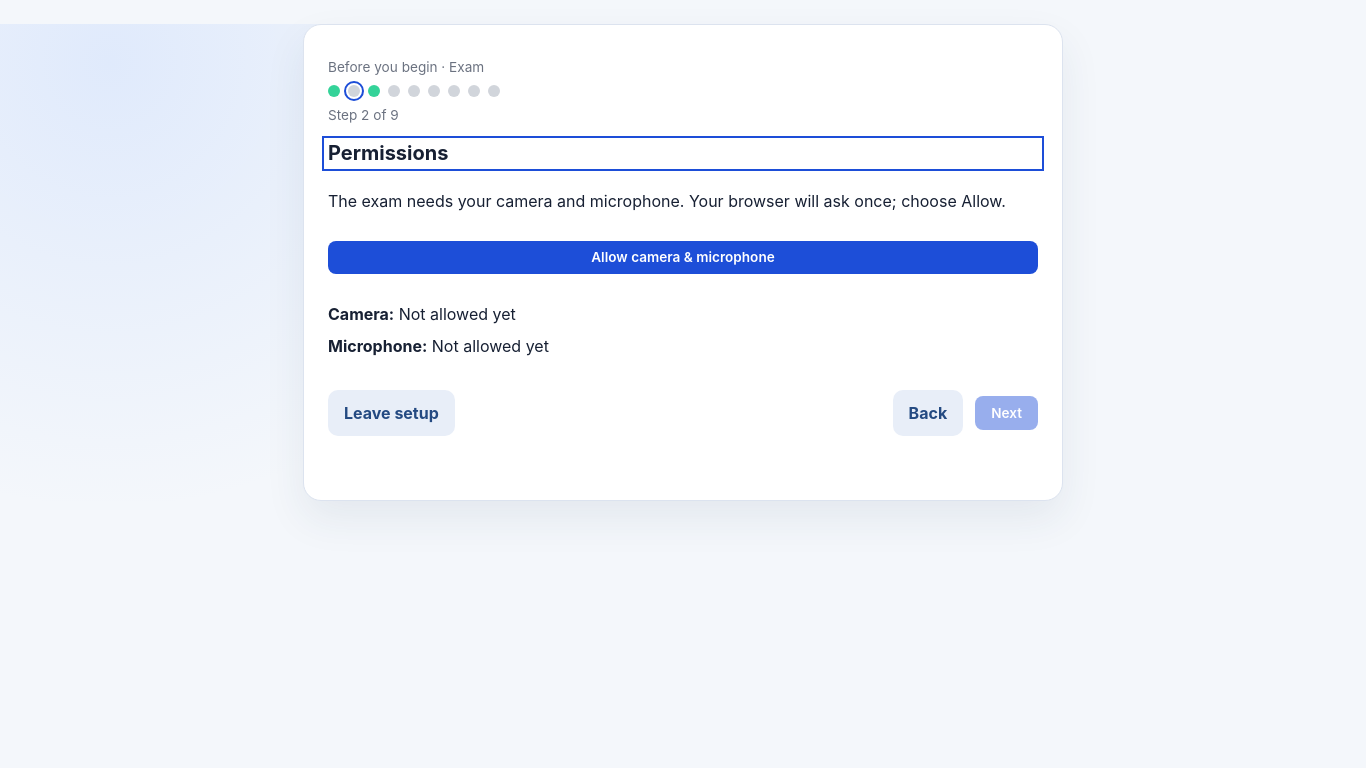
Scenario: gates the permissions step on both permissions and shows fix steps when blocked
The width and height of the screenshot is (1366, 768).
Check: the button "Next" is disabled, box [975,396,1038,430]
Step 1. Click the button "Allow camera & microphone" → [683, 257], box [328,241,1038,274]
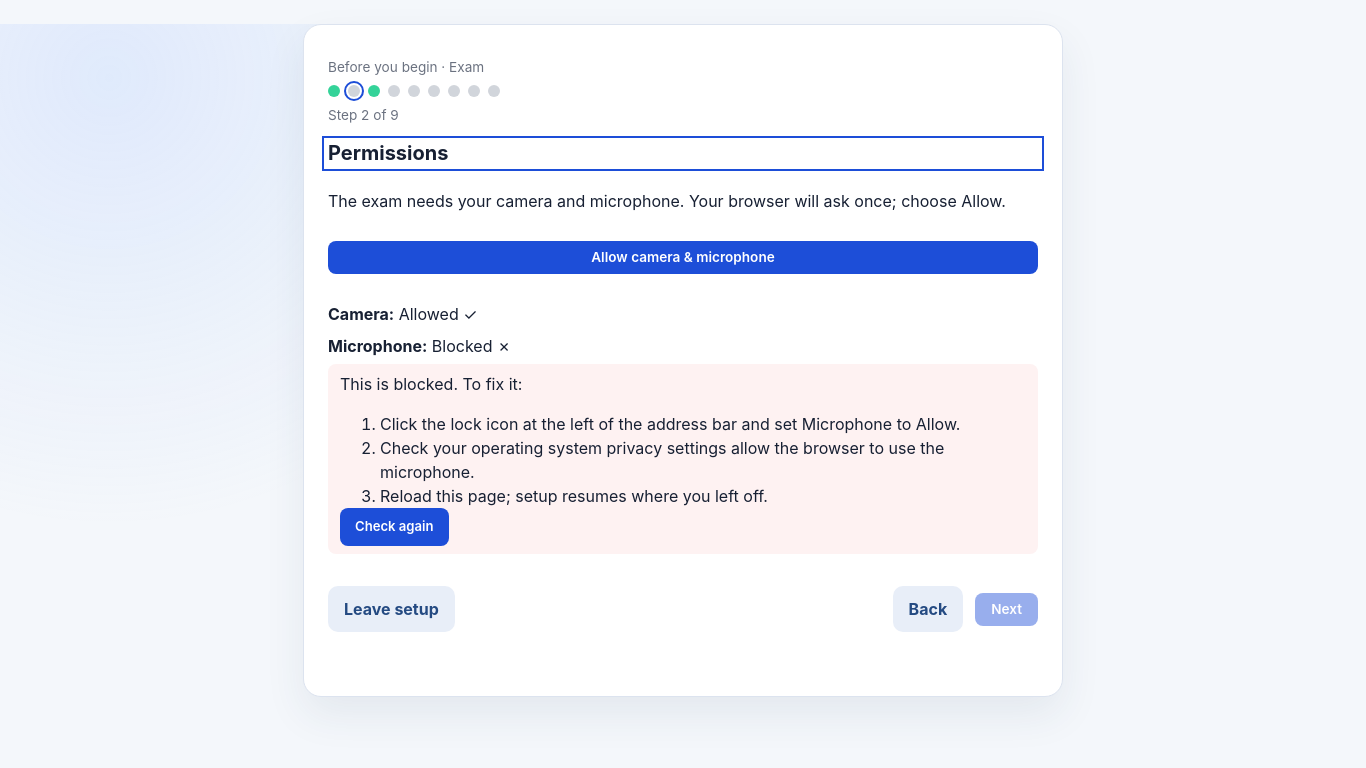
Check: the text "Camera: Allowed ✓" is shown, box [328,304,477,324]
Check: the text "Microphone: Blocked ✗" is shown, box [328,334,1038,554]
Check: the message with class "setup-fix" shows "Microphone", box [380,414,960,434]
Step 2. Click the button "Check again" → [394, 527], box [340,508,449,546]
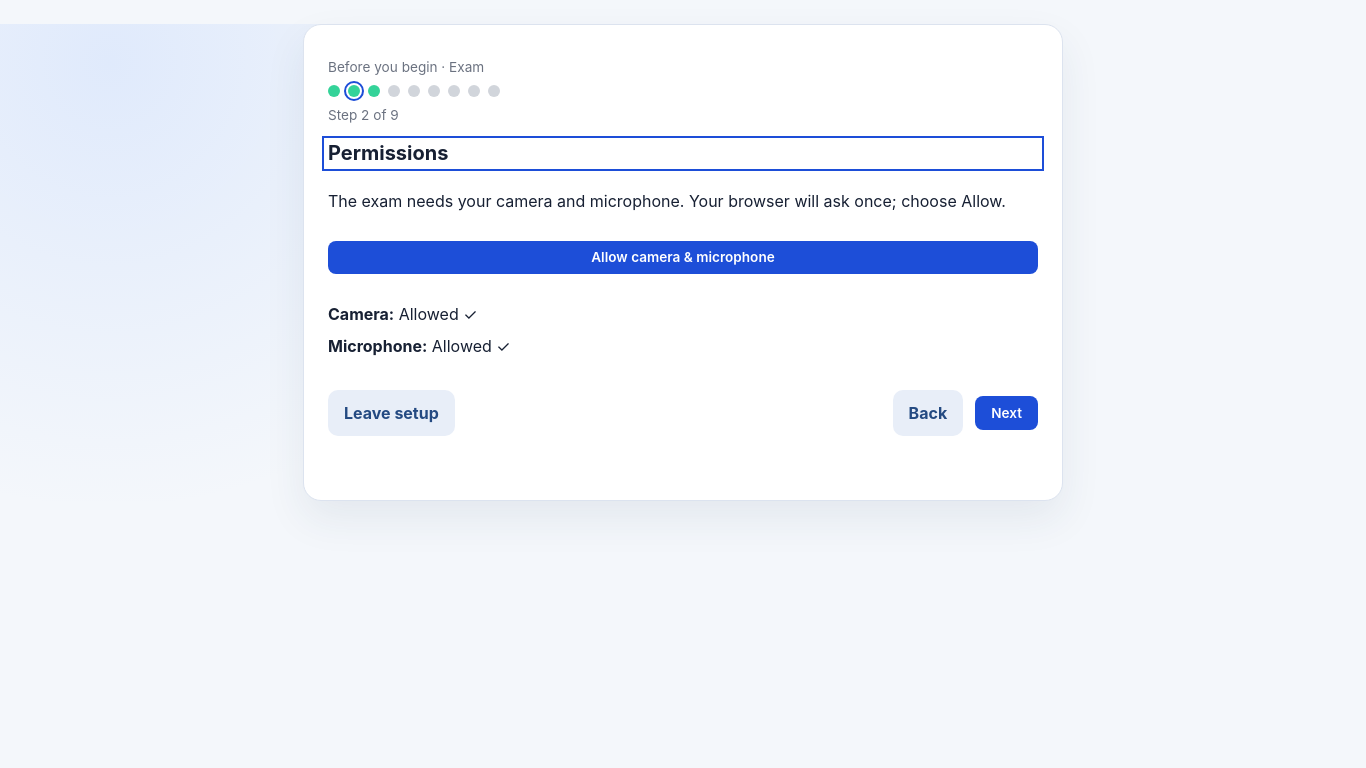
Check: the text "Microphone: Allowed ✓" is shown, box [328,336,510,356]
Check: the button "Next" is enabled, box [975,396,1038,430]
